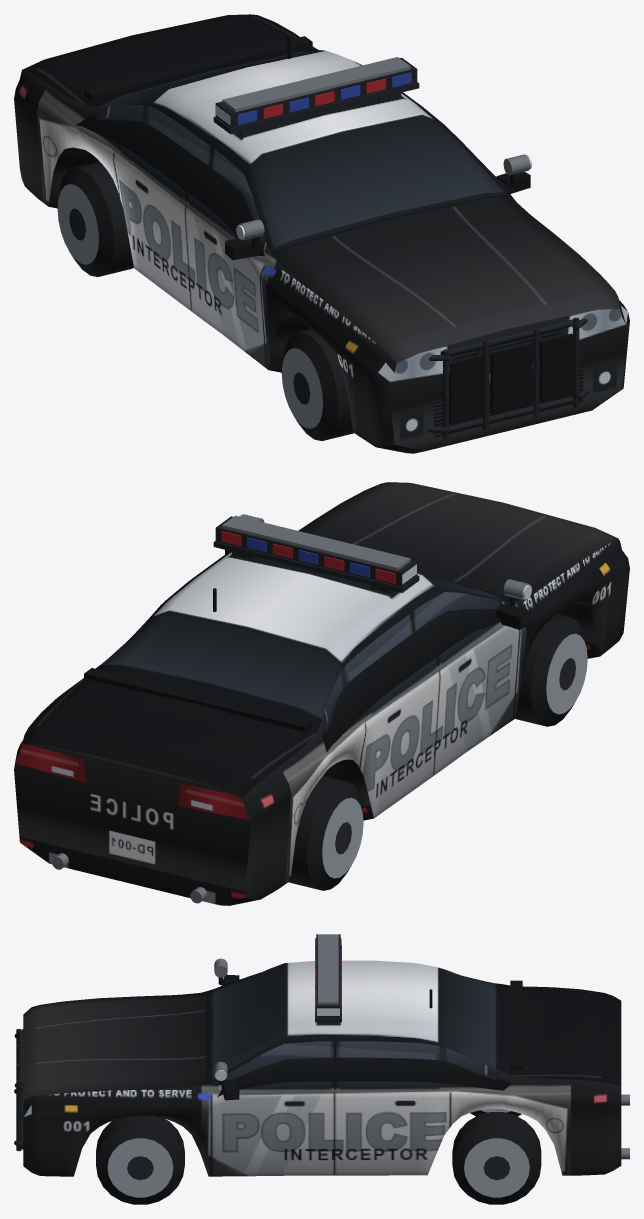
The model's file is police-interceptor.glb.
3 views of the same model, one above another, from view 1: azimuth 30°, elevation 25°; view 2: azimuth 150°, elevation 25°; view 3: azimuth 270°, elevation 25° (orthographic). The views are drawn at different scales.
Parts seen in each view (by area): view 1: body, wheel_rr, wheel_fr; view 2: body, wheel_rr, wheel_fr; view 3: body, wheel_rl, wheel_fl.
Boxes of the visible parts, box(x1,y1,x2,y2) form: body: box(14, 14, 629, 453); wheel_rr: box(57, 161, 133, 276); wheel_fr: box(281, 329, 353, 440); body: box(14, 482, 629, 905); wheel_rr: box(289, 776, 363, 890); wheel_fr: box(515, 614, 587, 726); body: box(14, 934, 629, 1176); wheel_rl: box(452, 1112, 541, 1204); wheel_fl: box(96, 1115, 184, 1204).
Size of the model in its own units: 2.24 by 1.7 by 5.05.
Materials: 1 (1 with a texture image).
